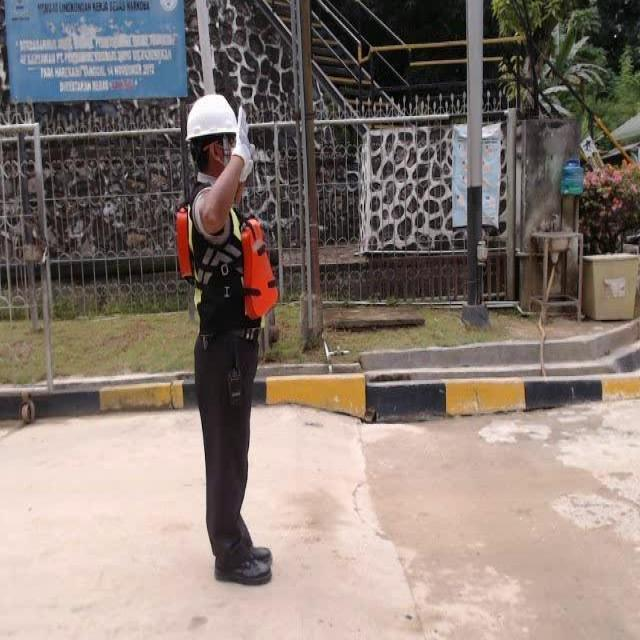vest: (173, 204, 280, 324)
